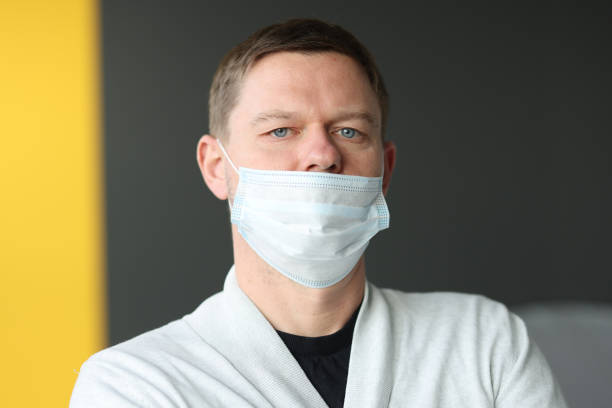mask_weared_incorrect: (213, 38, 400, 292)
